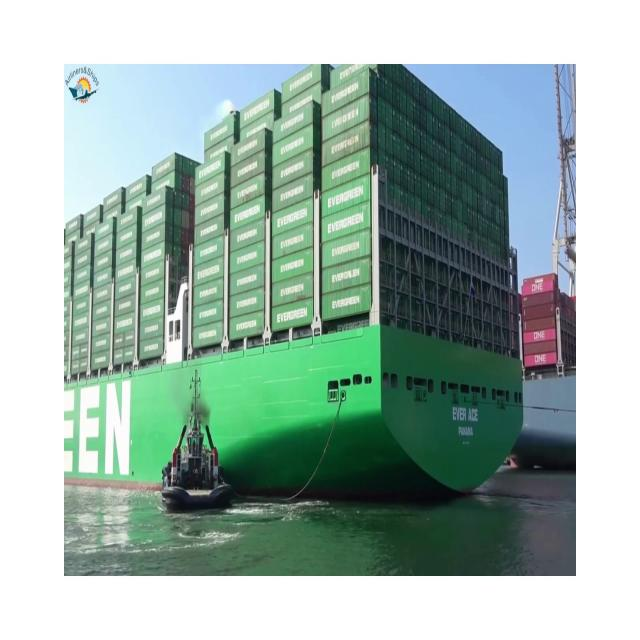OCR: (61, 380, 144, 490), (441, 386, 485, 454)
